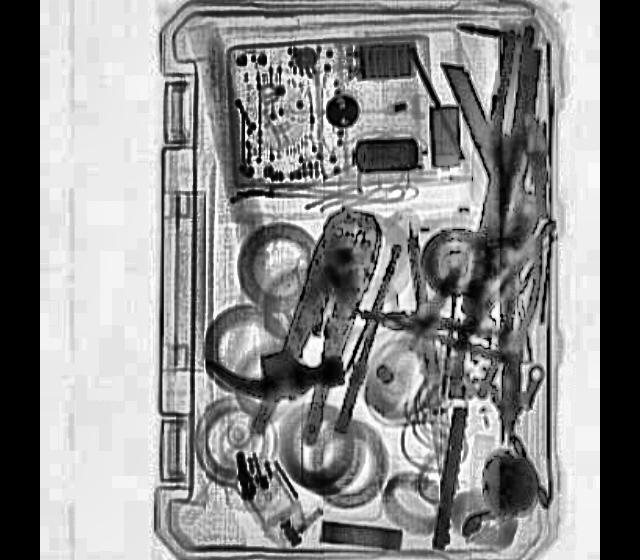Pliers: (255, 194, 395, 464), (448, 224, 542, 408), (358, 297, 522, 367)
